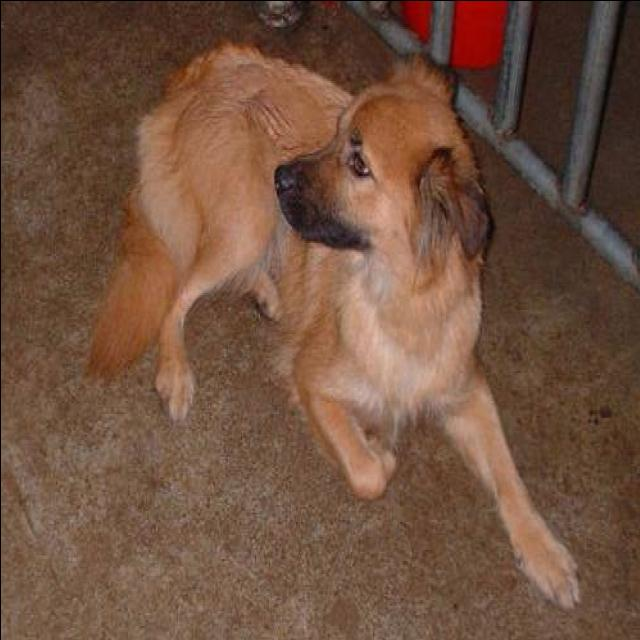dog: (80, 4, 590, 601)
